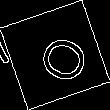O_NW: (23, 25, 87, 85)
